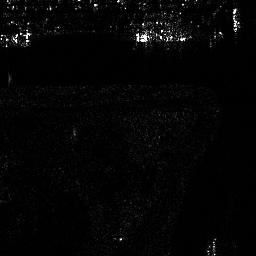ship: (135, 28, 191, 46), (231, 7, 241, 33)
